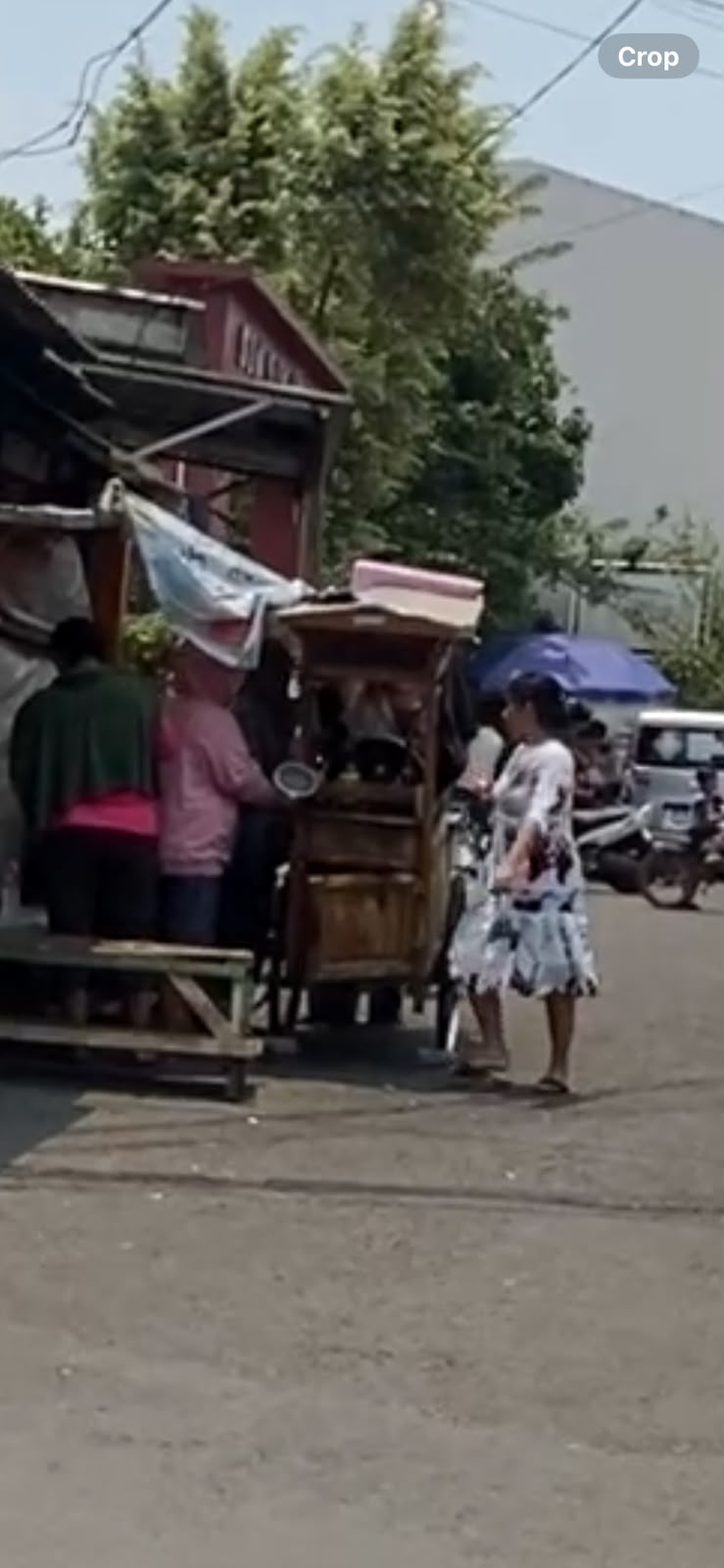gerobak: (265, 569, 481, 1047)
